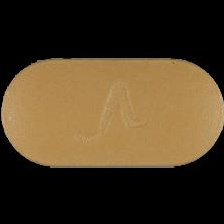53808-1048: (0, 0, 224, 224)
